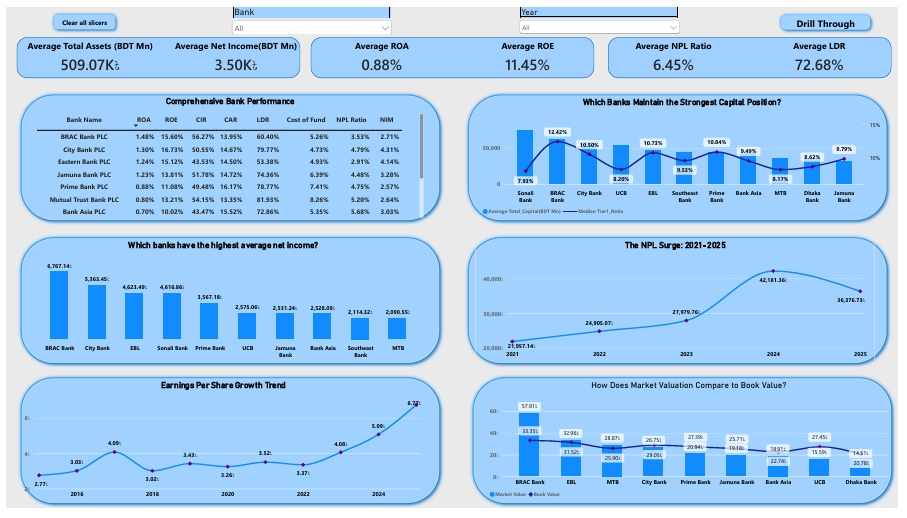

The page's visual inventory and layout, read from the dashboard file:
{"tool":"powerbi","page":{"name":"Bank Performance Scorecard","canvas":[1920,1080],"ordinal":5},"visuals":[{"type":"group","id":"g1","title":"Background","box":[22.5,65,1892.5,1015],"z":0},{"type":"shape","box":[22.5,65,610,87.5],"z":0,"group":"g1"},{"type":"shape","title":"Drill Through","box":[1658.8,7.5,211.2,50],"z":1000},{"type":"shape","box":[655,65,610,87.5],"z":1000,"group":"g1"},{"type":"cardVisual","fields":{"Data":["Avg(Financials.Total_Assets (BDT Mn))","Avg(Financials.Net_Income(BDT Mn))","Avg(Reported_Ratios_cleaned.ROA)","Avg(Reported_Ratios_cleaned.ROE)","Avg(Reported_Ratios_cleaned.NPL_Ratio)","Avg(Reported_Ratios_cleaned.LDR)"]},"box":[27.5,65,1877.5,87.5],"z":2000},{"type":"shape","box":[1295,65,610,87.5],"z":2000,"group":"g1"},{"type":"tableEx","title":"Comprehensive Bank Performance","fields":{"Values":["Bank_Master.Bank_Name","Avg(Reported_Ratios_cleaned.ROA)","Avg(Reported_Ratios_cleaned.ROE)","Avg(Reported_Ratios_cleaned.CIR)","Avg(Reported_Ratios_cleaned.CAR)","Avg(Reported_Ratios_cleaned.LDR)","Avg(Reported_Ratios_cleaned.Cost_of_Fund)","Avg(Reported_Ratios_cleaned.NPL_Ratio)","Avg(Reported_Ratios_cleaned.Net_Interest_Margin)"]},"box":[50,179.4,864.7,291.2],"z":3000},{"type":"shape","box":[985,180,920,290],"z":3000,"group":"g1"},{"type":"shape","box":[22.5,180,920,290],"z":4000,"group":"g1"},{"type":"lineStackedColumnComboChart","title":"Which Banks Maintain the Strongest Capital Position?","fields":{"Category":["Bank_Master.Short_Name"],"Y":["Avg(Financials.Total_Capital(BDT Mn))"],"Y2":["Median(Reported_Ratios_cleaned.Tier1_Ratio)"]},"box":[1010,180,890,290],"z":4000},{"type":"columnChart","title":"Which banks have the highest average net income?","fields":{"Category":["Bank_Master.Short_Name"],"Y":["Avg(Financials.Net_Income(BDT Mn))"]},"box":[22.5,487.5,890,290],"z":5000},{"type":"shape","box":[22.5,487.5,920,290],"z":5000,"group":"g1"},{"type":"shape","box":[985,487.5,920,290],"z":6000,"group":"g1"},{"type":"lineChart","title":"The NPL Surge: 2021-2025","fields":{"Category":["Financials.Year"],"Y":["Avg(Financials.Non-Performing_Loan_Amount(BDT Mn))"]},"box":[1010,487.5,860,290],"z":6000},{"type":"lineChart","title":"Earnings Per Share Growth Trend","fields":{"Category":["Market_Data (2).Year"],"Y":["Avg(Market_Data (2).EPS)"]},"box":[22.5,790,890,290],"z":7000},{"type":"shape","box":[22.5,790,920,290],"z":7000,"group":"g1"},{"type":"shape","box":[995,790,920,290],"z":8000,"group":"g1"},{"type":"lineClusteredColumnComboChart","title":"How Does Market Valuation Compare to Book Value?","fields":{"Category":["Bank_Master.Short_Name"],"Y":["Avg(Market_Data_Refined.Market_Value_Per_Share)"],"Y2":["Avg(Market_Data_Refined.Book_Value_Per_Share)"]},"box":[1025,790,890,290],"z":8000},{"type":"slicer","fields":{"Values":["Bank_Master.Bank_Name"]},"box":[480.9,0,355.1,57.3],"z":9000},{"type":"slicer","fields":{"Values":["Dim_Year.Year"]},"box":[1100,0,355,65],"z":10000},{"type":"actionButton","box":[94.4,7.4,150,50],"z":11000}]}

Visuals, with their boxes in screenshot pixels (x1, y1, x2, y2), scaled from the page's 1920x1080 canvas onto the 907x518 screenshot:
"Background" group: [left=11, top=31, right=905, bottom=517]
shape: [left=11, top=31, right=299, bottom=73]
"Drill Through" shape: [left=784, top=4, right=883, bottom=28]
shape: [left=309, top=31, right=598, bottom=73]
cardVisual - Avg(Financials.Total_Assets (BDT Mn)) x Avg(Financials.Net_Income(BDT Mn)): [left=13, top=31, right=900, bottom=73]
shape: [left=612, top=31, right=900, bottom=73]
"Comprehensive Bank Performance" tableEx: [left=24, top=86, right=432, bottom=226]
shape: [left=465, top=86, right=900, bottom=225]
shape: [left=11, top=86, right=445, bottom=225]
"Which Banks Maintain the Strongest Capital Position?" lineStackedColumnComboChart: [left=477, top=86, right=898, bottom=225]
"Which banks have the highest average net income?" columnChart: [left=11, top=234, right=431, bottom=373]
shape: [left=11, top=234, right=445, bottom=373]
shape: [left=465, top=234, right=900, bottom=373]
"The NPL Surge: 2021-2025" lineChart: [left=477, top=234, right=883, bottom=373]
"Earnings Per Share Growth Trend" lineChart: [left=11, top=379, right=431, bottom=517]
shape: [left=11, top=379, right=445, bottom=517]
shape: [left=470, top=379, right=905, bottom=517]
"How Does Market Valuation Compare to Book Value?" lineClusteredColumnComboChart: [left=484, top=379, right=905, bottom=517]
slicer - Bank_Master.Bank_Name: [left=227, top=0, right=395, bottom=27]
slicer - Dim_Year.Year: [left=520, top=0, right=687, bottom=31]
actionButton: [left=45, top=4, right=115, bottom=28]
